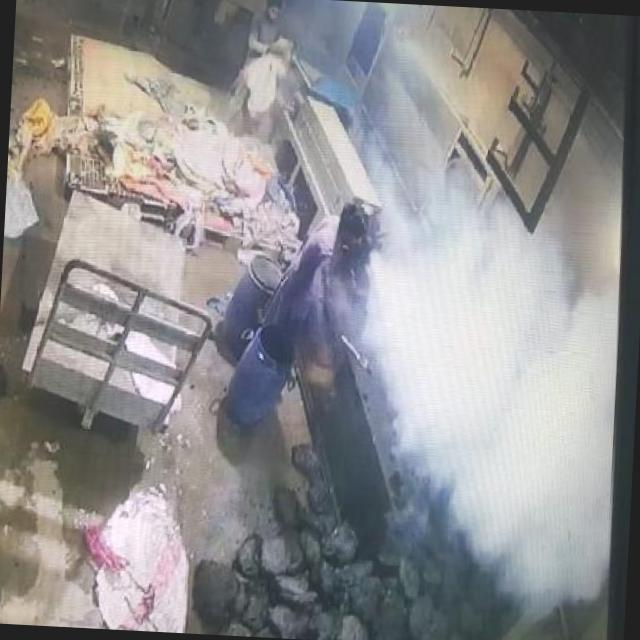smoke: (376, 206, 621, 546)
